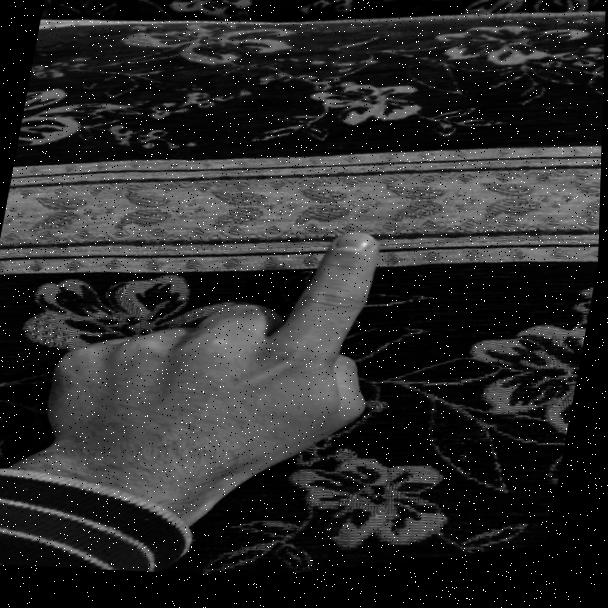one: (8, 177, 426, 534)
